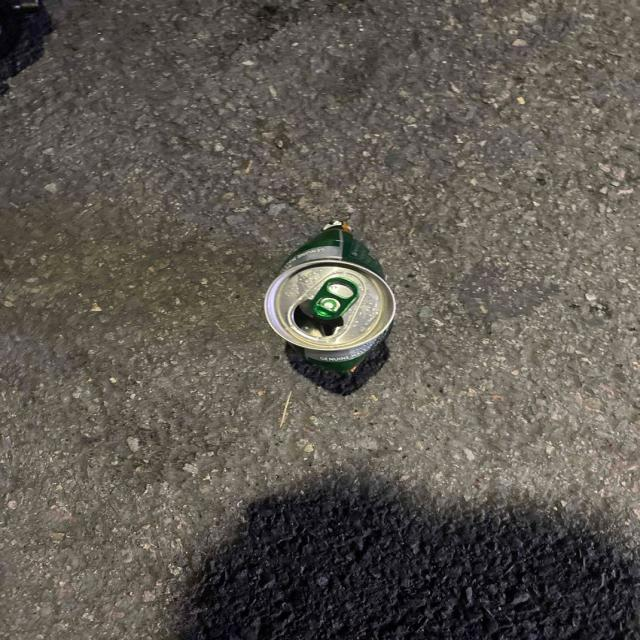kimloai: (264, 221, 396, 394)
